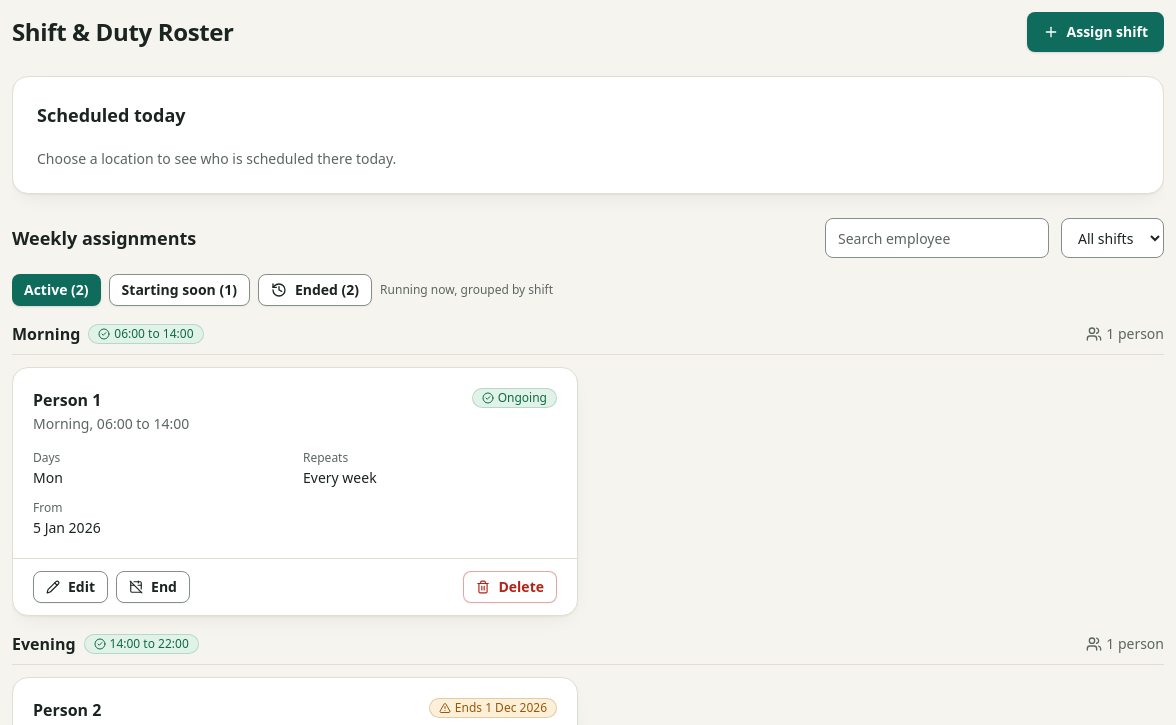
Test case: RosterPage weekly assignments › shows only the running assignments first, under their shift, and moves finished ones to Ended
Check: the tab "Active (2)" is shown, box [12,274,101,306]
Check: the tab "Starting soon (1)" is shown, box [109,274,250,306]
Step 1. Click the tab "Ended (2)" → (315, 290), box [258,274,372,306]
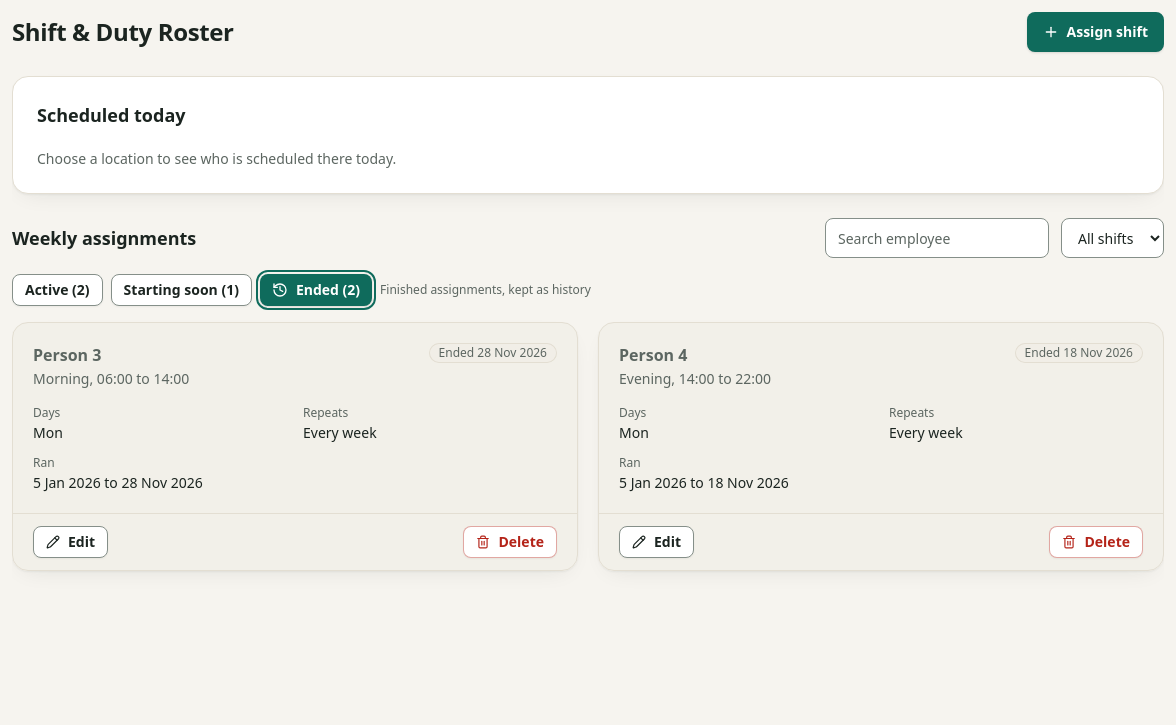
Step 2. Click the tab "Starting soon (1)" → (181, 290), box [111,274,252,306]
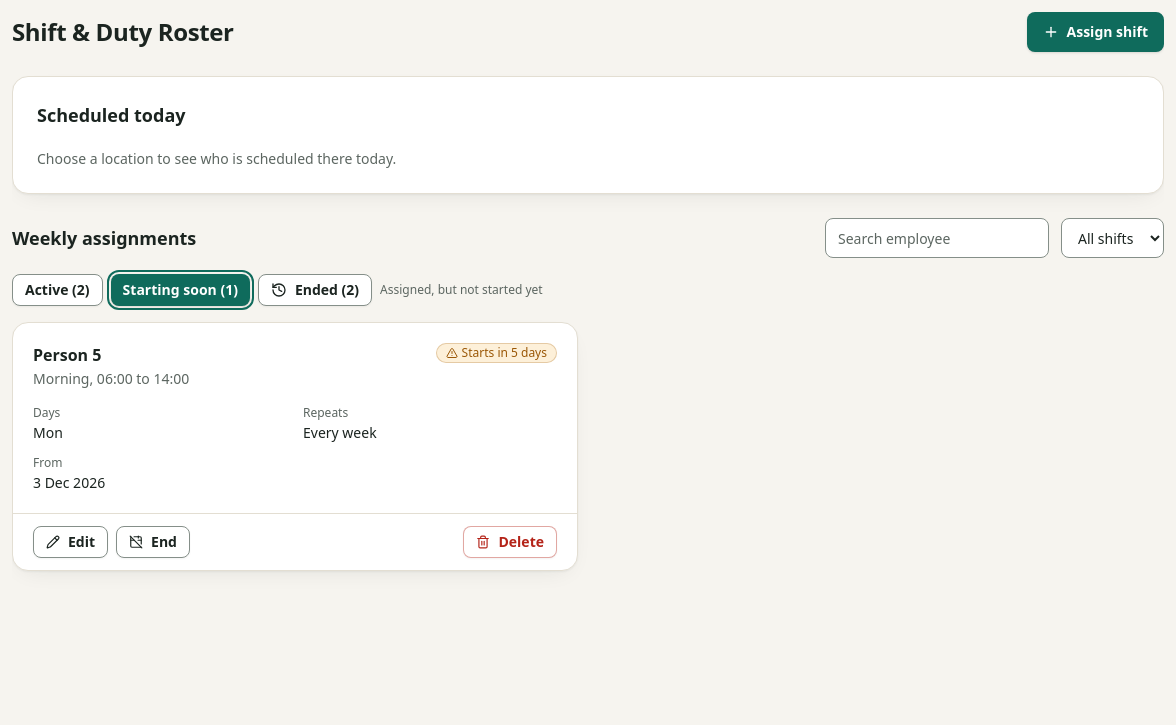
Check: the heading "Person 5" is shown, box [33,344,102,366]
Check: the text "Starts in 5 days" is shown, box [436,343,557,363]
